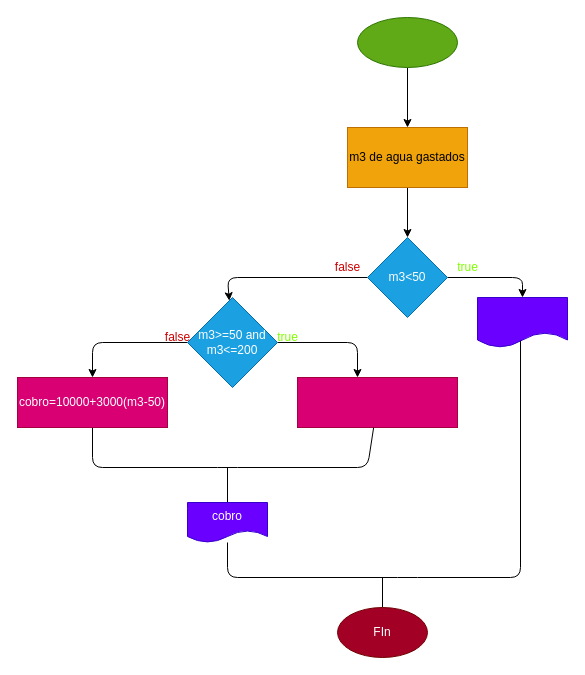
This 585x675 diagram has some shape labels left out. Here are the shapes that lost their labels. From the top down, the centre of each, then its label:
pixel 407 42: Inicio
pixel 522 322: Cobro=10000
pixel 377 402: cobro=10000+2000(m3-50)
